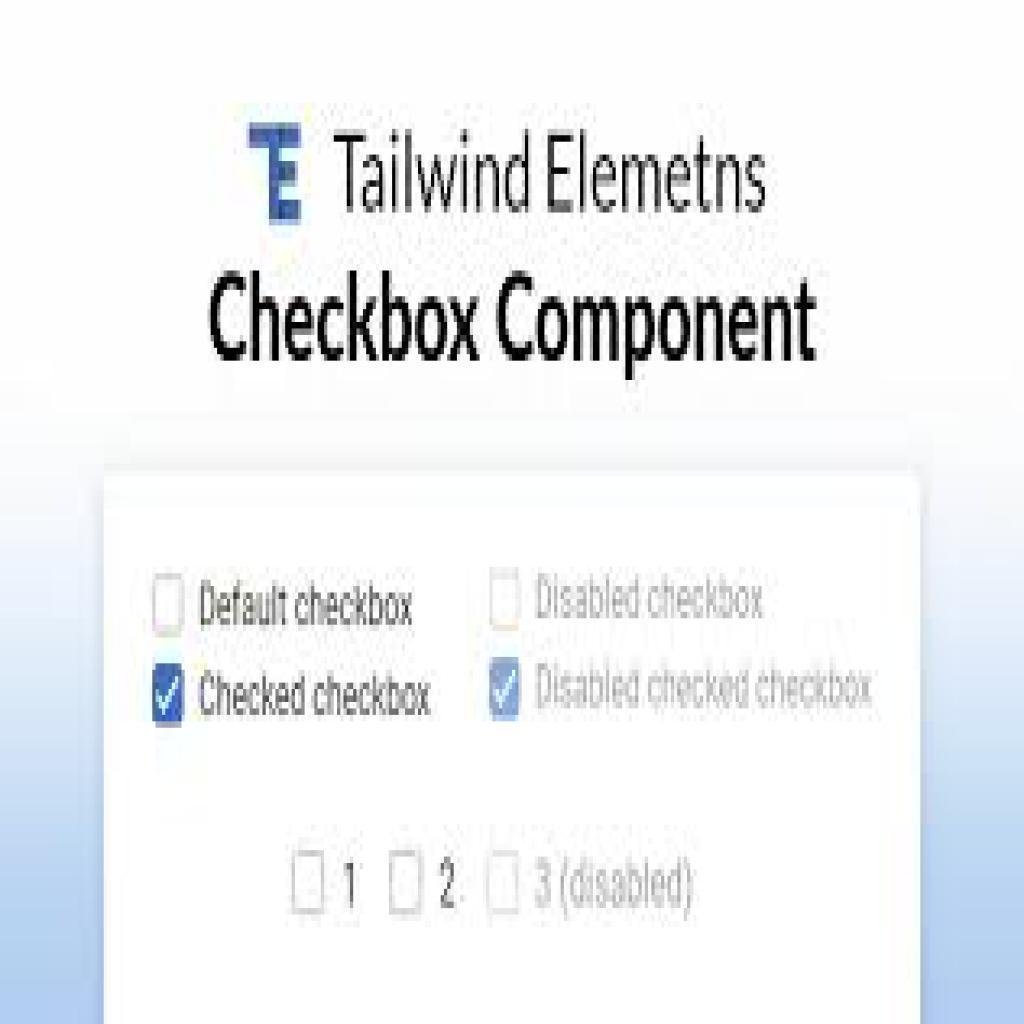checkbox: (489, 568, 523, 632), (489, 655, 521, 721), (293, 852, 326, 915), (390, 852, 424, 913), (152, 663, 185, 725), (488, 852, 522, 912), (153, 576, 184, 636)
label: (537, 658, 877, 716), (537, 567, 774, 626), (199, 670, 434, 722), (200, 581, 417, 633), (535, 857, 697, 916), (435, 857, 463, 909), (344, 860, 364, 913)
